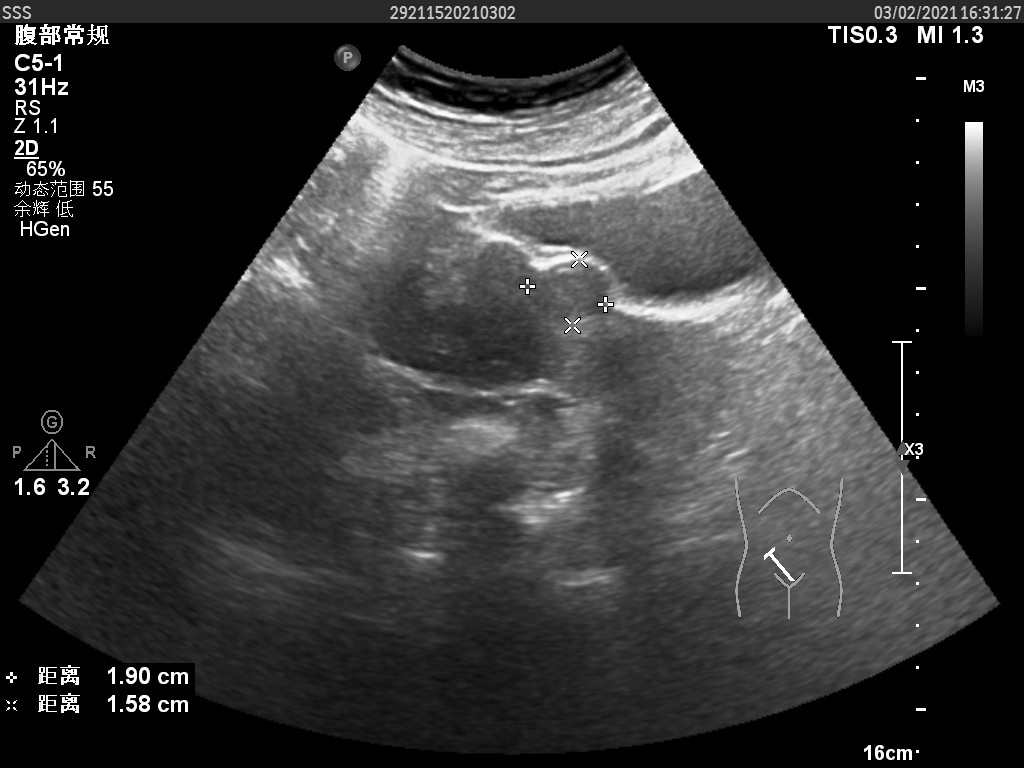肌瘤: (525, 259, 607, 326)
